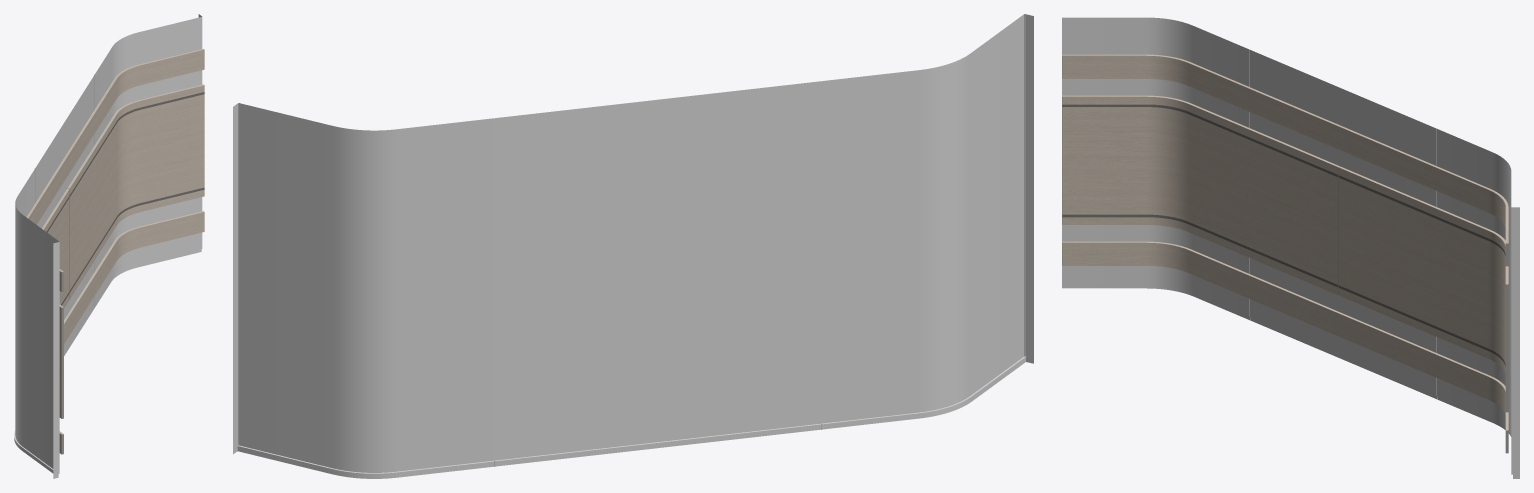
Rendered from MMo_W_001_b_16x16x10.fbx.
3 views of the same model, side by side, from view 1: azimuth 30°, elevation 25°; view 2: azimuth 150°, elevation 25°; view 3: azimuth 270°, elevation 25° (orthographic). The views are drawn at different scales.
Visible parts, largest first — view 1: MMo_W_001_b_16x16x10; view 2: MMo_W_001_b_16x16x10; view 3: MMo_W_001_b_16x16x10.
Boxes of the visible parts, x1=… form: MMo_W_001_b_16x16x10: x1=14, y1=14, x2=204, y2=478; MMo_W_001_b_16x16x10: x1=233, y1=14, x2=1033, y2=478; MMo_W_001_b_16x16x10: x1=1062, y1=17, x2=1519, y2=478.
Bounding box in the file's own units: 16.2 × 10.6 × 16.2.
